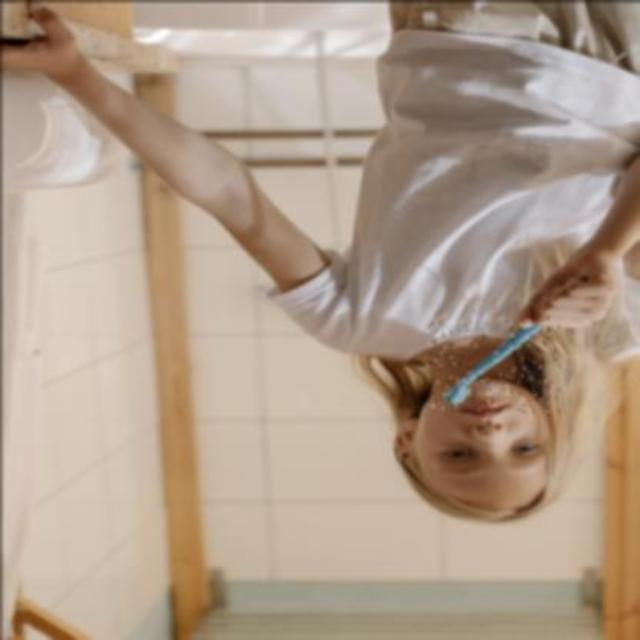toothbrush: (426, 314, 558, 410)
